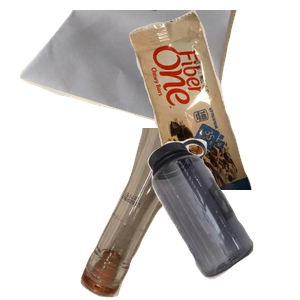glass: (78, 128, 298, 300)
paper: (17, 10, 254, 141)
plastic: (145, 136, 300, 300)
trash: (127, 10, 300, 190)
